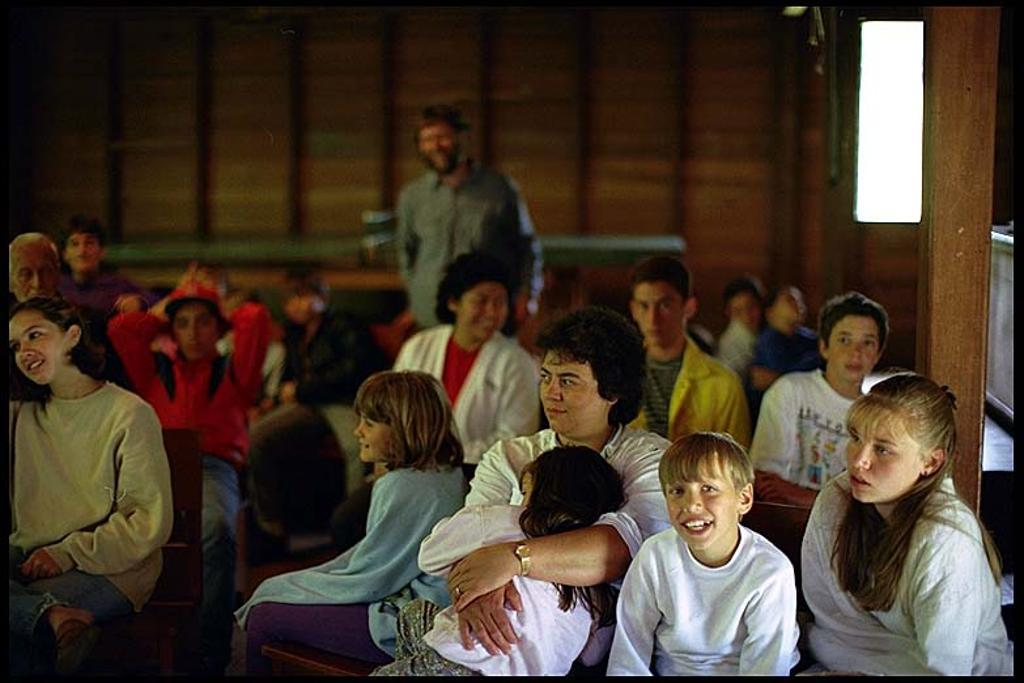face: (847, 407, 923, 502), (664, 460, 738, 548), (540, 350, 604, 433), (12, 311, 67, 383), (828, 318, 879, 383), (635, 287, 684, 348), (354, 399, 398, 463), (459, 287, 510, 339), (13, 252, 58, 303), (175, 309, 216, 362), (520, 475, 549, 533), (423, 128, 459, 173), (287, 285, 321, 320), (67, 233, 100, 269), (778, 291, 808, 325), (735, 297, 766, 326), (199, 269, 228, 300)
